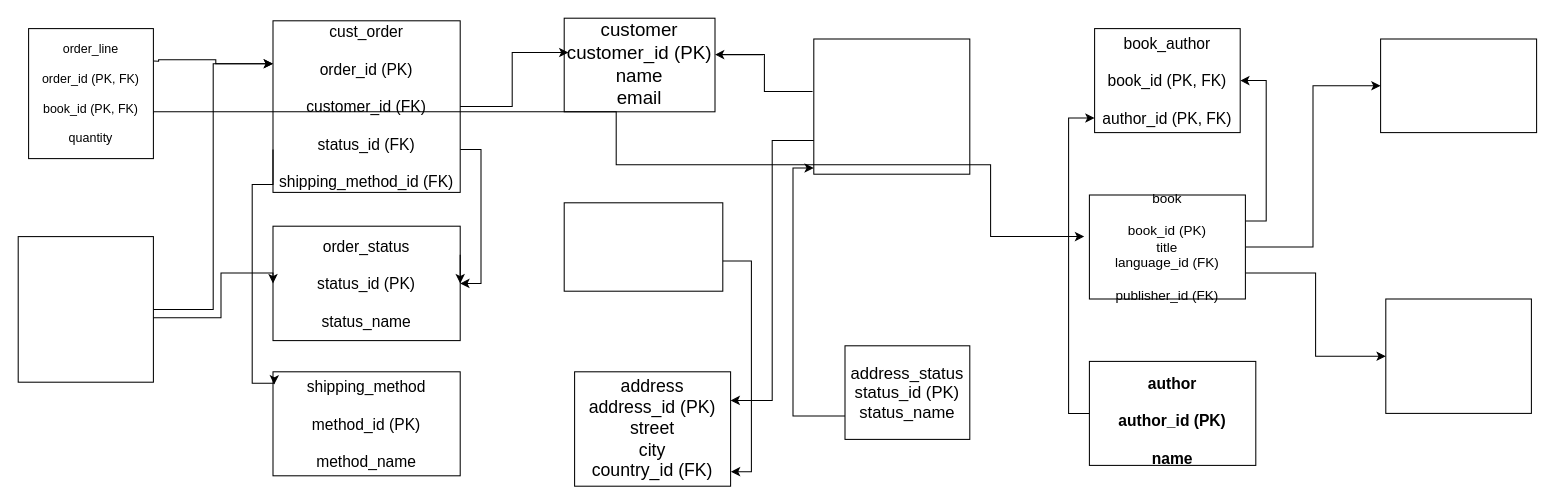
This 1563x504 diagram has some shape labels left out. The box of each missing label's shape, as (x1, y1, x2, y2) in pixels:
book_language language_id (PK) language_name: (1380, 38, 1537, 133)
country country_id (PK) name: (563, 202, 723, 291)
customer_address customer_id (PK, FK ) address_id (PK, FK) status_id (FK): (813, 38, 970, 174)
order_history history_id (PK) order_id (FK) status_id (FK) change_date: (17, 236, 153, 382)
publisher publisher_id (PK) name: (1385, 298, 1531, 413)
